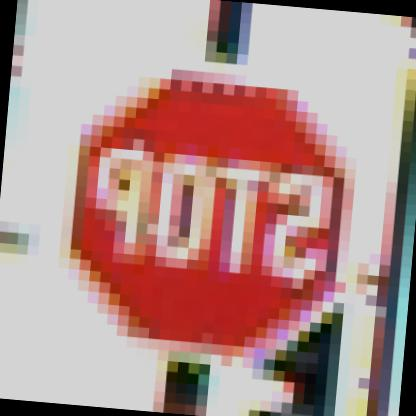stop: (39, 36, 385, 381)
